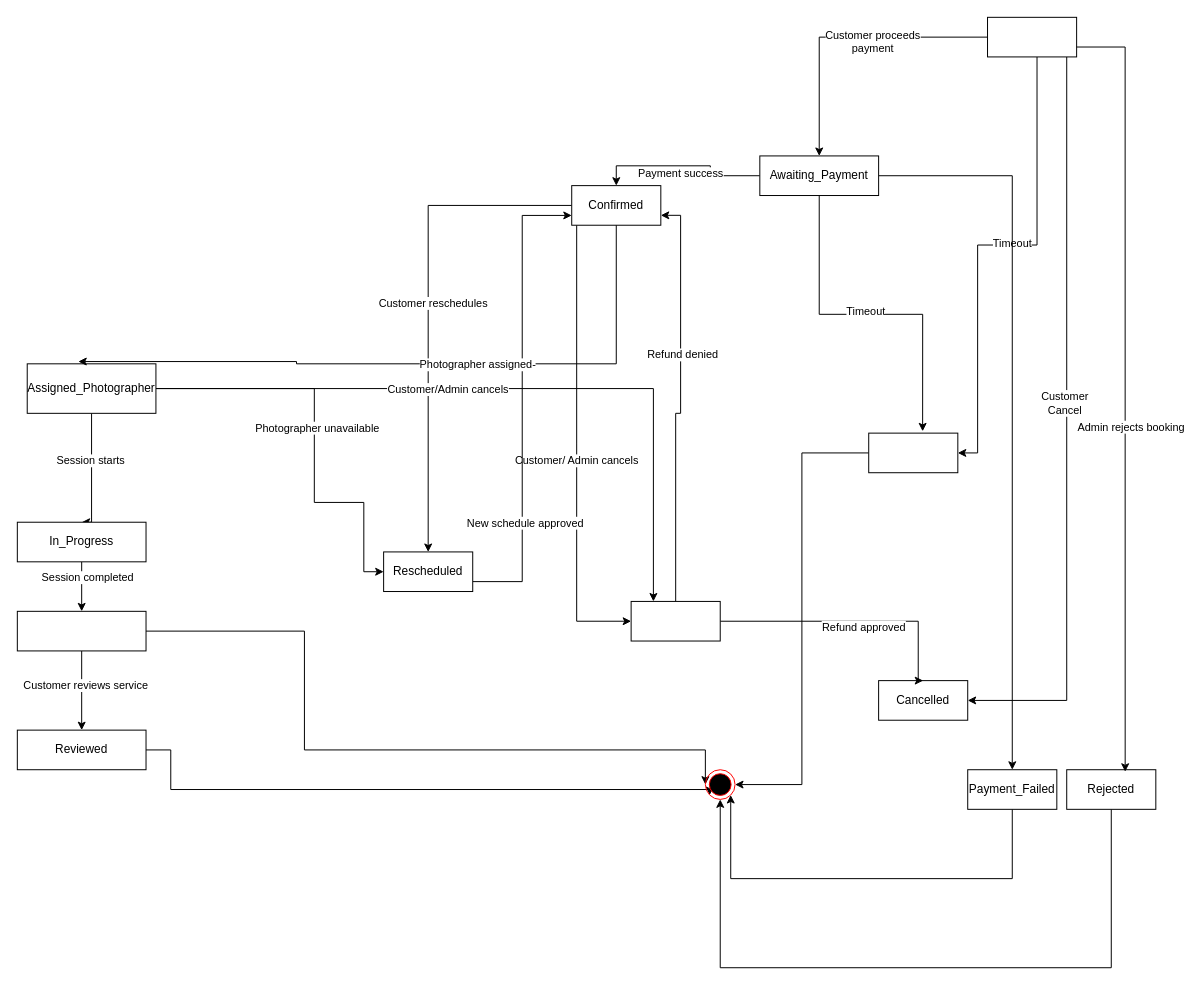
Some shapes in this 1202 by 993 pixel diagram are drawn without their labels. Each missing label, with the box of its shape:
Completed: (16, 610, 146, 651)
Expired: (868, 432, 958, 473)
Pending: (987, 16, 1077, 57)
Refund_Processing: (630, 600, 720, 641)
